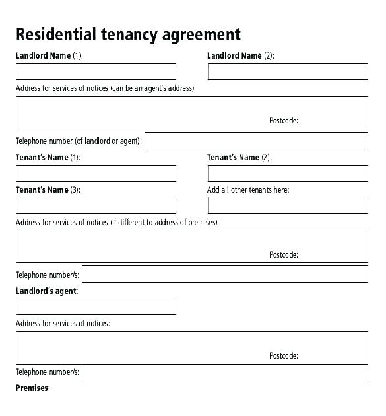textbox: (14, 227, 370, 264), (14, 329, 370, 366), (14, 95, 370, 130), (79, 263, 370, 283), (81, 366, 370, 386), (143, 131, 370, 151), (207, 62, 372, 83), (15, 163, 179, 184), (15, 296, 179, 317), (15, 61, 178, 82), (15, 195, 178, 216), (207, 195, 370, 216), (206, 164, 370, 183)
